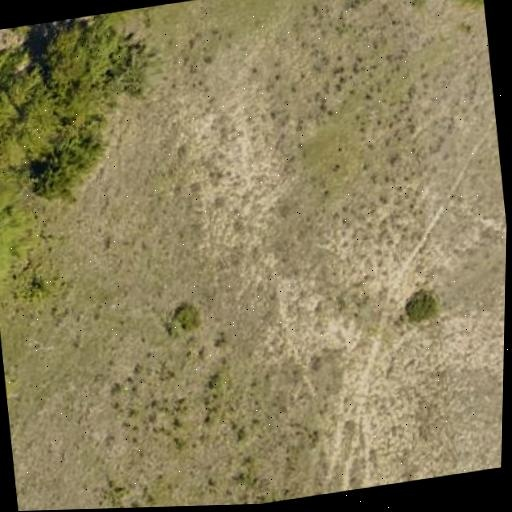tree-top: (34, 9, 165, 117), (0, 39, 63, 174), (29, 131, 111, 202), (0, 175, 29, 289), (431, 0, 485, 13)
